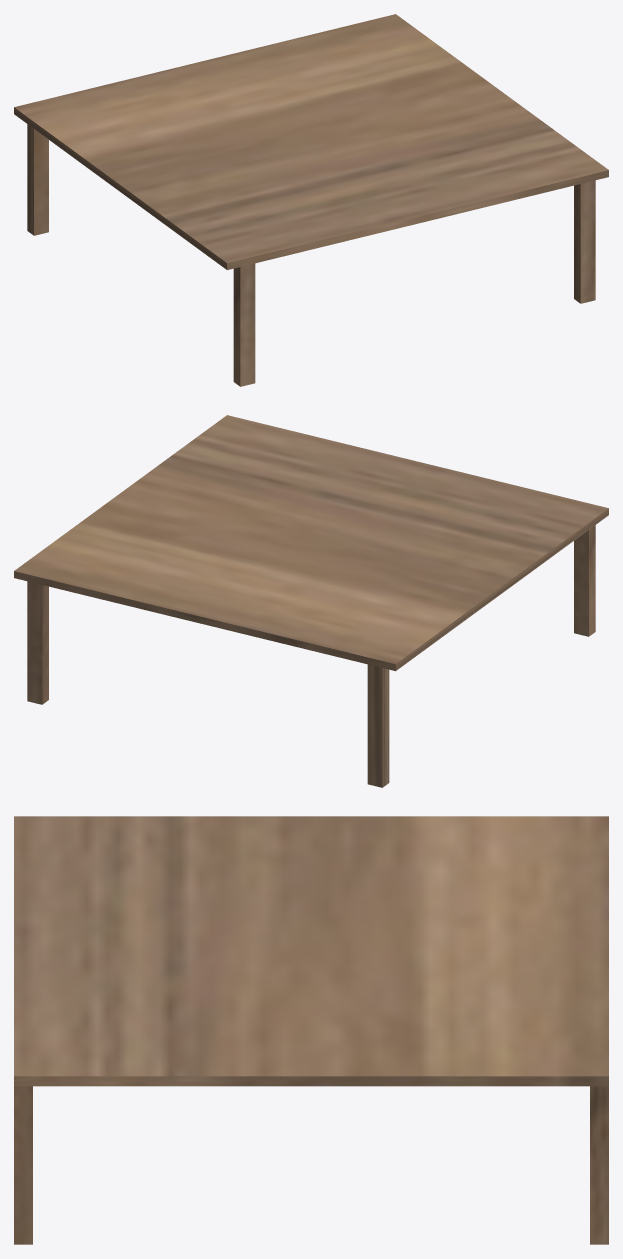
The model's file is table.fbx.
The picture shows the model from 3 angles, top to bottom: view 1: azimuth 30°, elevation 25°; view 2: azimuth 150°, elevation 25°; view 3: azimuth 270°, elevation 25°; orthographic projection. The views are drawn at different scales.
Parts seen in each view (by area): view 1: table; view 2: table; view 3: table.
Part boxes in pixels (bbox=[...]): table: bbox=[14, 14, 608, 386]; table: bbox=[14, 415, 608, 787]; table: bbox=[14, 816, 608, 1244].
Size of the model in its own units: 9605 by 3051 by 9287.
Materials: 1 (1 with a texture image).
